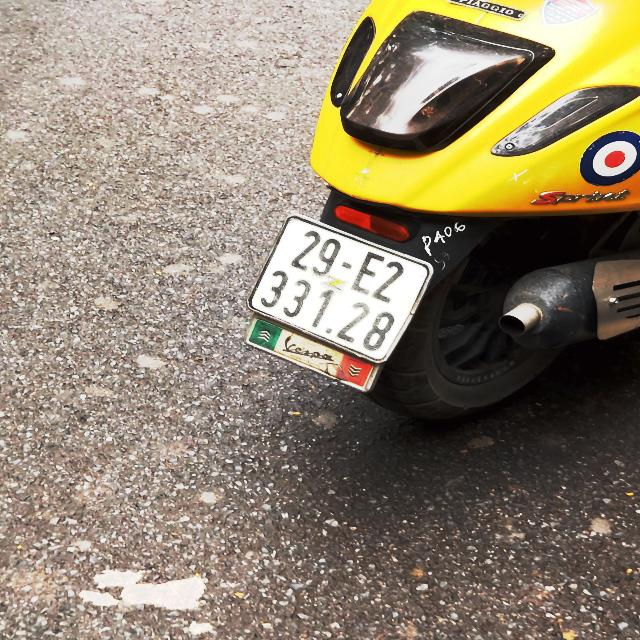license_plate: (239, 209, 444, 369)
